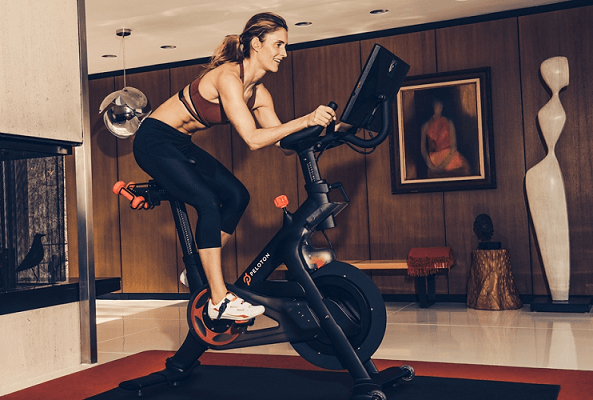gym_bike: (117, 42, 417, 399)
